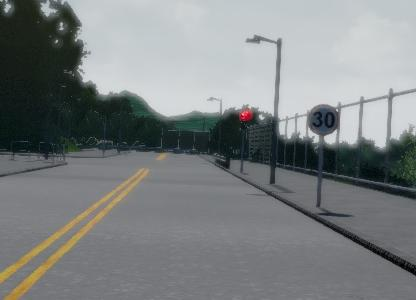Speed_30: (308, 101, 340, 141)
